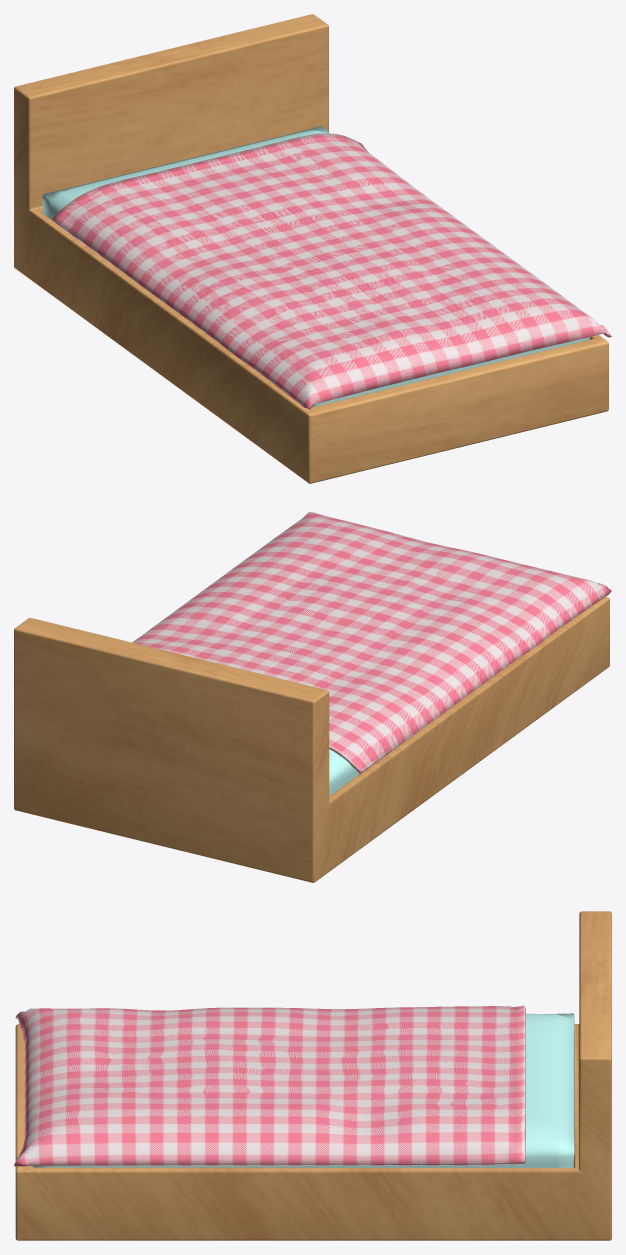
The model's file is bed.fbx.
3 views of the same model, one above another, from view 1: azimuth 30°, elevation 25°; view 2: azimuth 150°, elevation 25°; view 3: azimuth 270°, elevation 25° (orthographic).
Parts seen in each view (by area): view 1: 床架, 被子; view 2: 床架, 被子; view 3: 被子, 床架.
Boxes of the visible parts, x1,y1,x2,y2 form: 床架: [14, 14, 608, 483]; 被子: [51, 133, 611, 409]; 床架: [14, 597, 609, 882]; 被子: [132, 512, 611, 773]; 被子: [14, 1005, 525, 1166]; 床架: [15, 911, 611, 1240].
Size of the model in its own units: 280 by 157 by 465.
